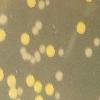yellow: (74, 20, 88, 36), (19, 32, 31, 47), (6, 73, 17, 89), (32, 78, 43, 94), (25, 73, 36, 88), (44, 82, 55, 97), (45, 44, 56, 58), (6, 87, 18, 99), (83, 46, 94, 59), (34, 19, 45, 31), (54, 69, 64, 82), (29, 25, 40, 36), (24, 0, 37, 9), (0, 13, 8, 27), (92, 35, 100, 49), (0, 27, 6, 44), (38, 44, 47, 55), (57, 46, 65, 58), (37, 0, 46, 10), (16, 86, 24, 97), (53, 91, 62, 100), (0, 65, 4, 84), (43, 0, 52, 8), (34, 54, 42, 63), (33, 94, 45, 100), (26, 52, 32, 63), (22, 51, 28, 62), (32, 50, 40, 58), (19, 46, 26, 55), (30, 56, 36, 65), (83, 0, 94, 4), (14, 69, 19, 75), (96, 94, 100, 100), (15, 97, 22, 100)
